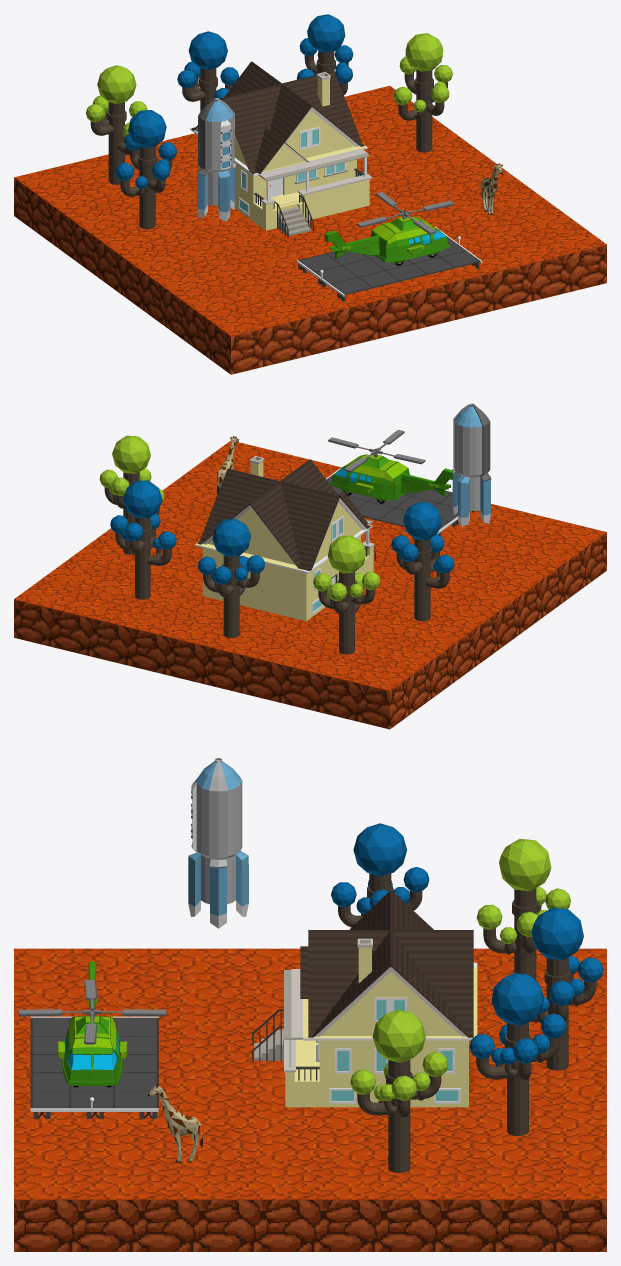
3 renders of one model, top to bottom at view 1: azimuth 30°, elevation 25°; view 2: azimuth 150°, elevation 25°; view 3: azimuth 270°, elevation 25°, orthographic. The views are drawn at different scales.
Parts seen in each view (by area): view 1: Cube.001, Cube.1555, OBJRANDOM_ROCKETSHIP, VEHICLES_HELICOPTER, ANIMAL_JIRAFA; view 2: Cube.001, Cube.1555, OBJRANDOM_ROCKETSHIP, VEHICLES_HELICOPTER; view 3: Cube.001, Cube.1555, OBJRANDOM_ROCKETSHIP, VEHICLES_HELICOPTER, ANIMAL_JIRAFA.
Boxes of the visible parts, x1=… form: Cube.001: x1=14, y1=14, x2=606, y2=374; Cube.1555: x1=190, y1=61, x2=372, y2=236; OBJRANDOM_ROCKETSHIP: x1=197, y1=98, x2=235, y2=221; VEHICLES_HELICOPTER: x1=324, y1=192, x2=454, y2=265; ANIMAL_JIRAFA: x1=480, y1=163, x2=502, y2=214; Cube.001: x1=14, y1=435, x2=606, y2=729; Cube.1555: x1=195, y1=456, x2=375, y2=620; OBJRANDOM_ROCKETSHIP: x1=452, y1=403, x2=491, y2=526; VEHICLES_HELICOPTER: x1=328, y1=430, x2=452, y2=503; Cube.001: x1=14, y1=823, x2=606, y2=1251; Cube.1555: x1=252, y1=890, x2=477, y2=1107; OBJRANDOM_ROCKETSHIP: x1=188, y1=758, x2=248, y2=928; VEHICLES_HELICOPTER: x1=18, y1=961, x2=166, y2=1087; ANIMAL_JIRAFA: x1=148, y1=1084, x2=202, y2=1162.
Bounding box in the file's own units: 4000 × 2179 × 4000.
Materials: 40 (4 with a texture image).
